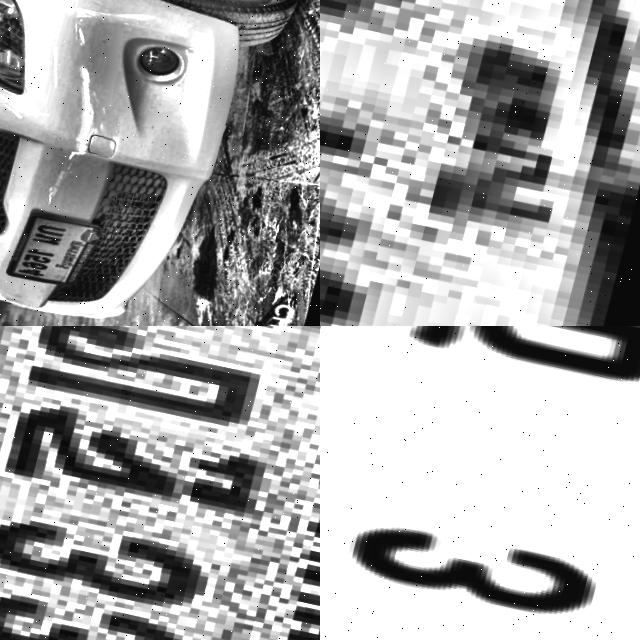license-plate: (320, 0, 640, 326), (0, 326, 320, 640), (320, 326, 640, 640), (6, 204, 112, 298)
